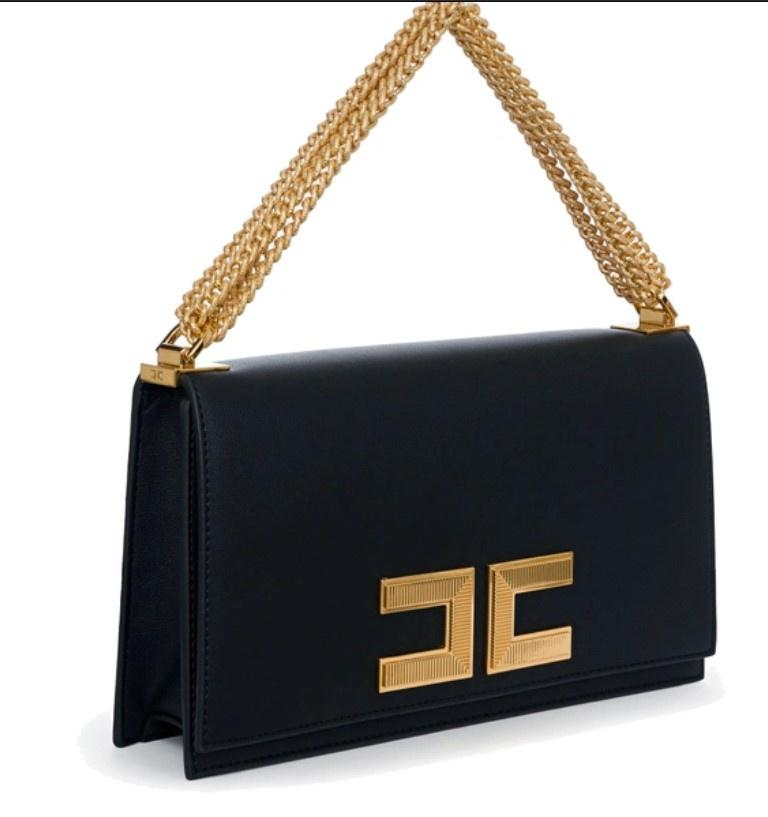ELISABETTA-FRANCHI: (365, 541, 591, 711)
